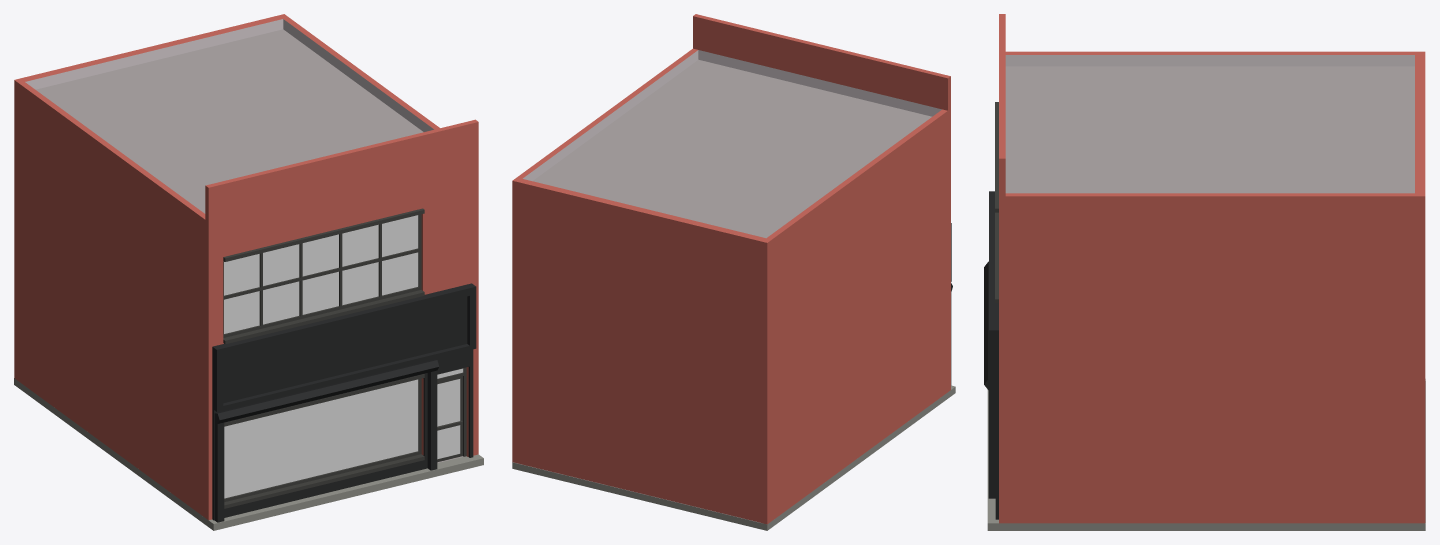
Rendered from Cafe_Export.fbx.
3 views of the same model, side by side, from view 1: azimuth 30°, elevation 25°; view 2: azimuth 150°, elevation 25°; view 3: azimuth 270°, elevation 25° (orthographic). The views are drawn at different scales.
Visible parts, largest first — view 1: Building, Glass, Glass Door Window; view 2: Building; view 3: Building.
Part boxes in pixels (<box>): Building: <box>14,14,483,530</box>; Glass: <box>224,215,418,498</box>; Glass Door Window: <box>437,379,460,459</box>; Building: <box>512,14,955,530</box>; Building: <box>984,14,1425,530</box>.
Size of the model in its own units: 836 by 1004 by 1080.
